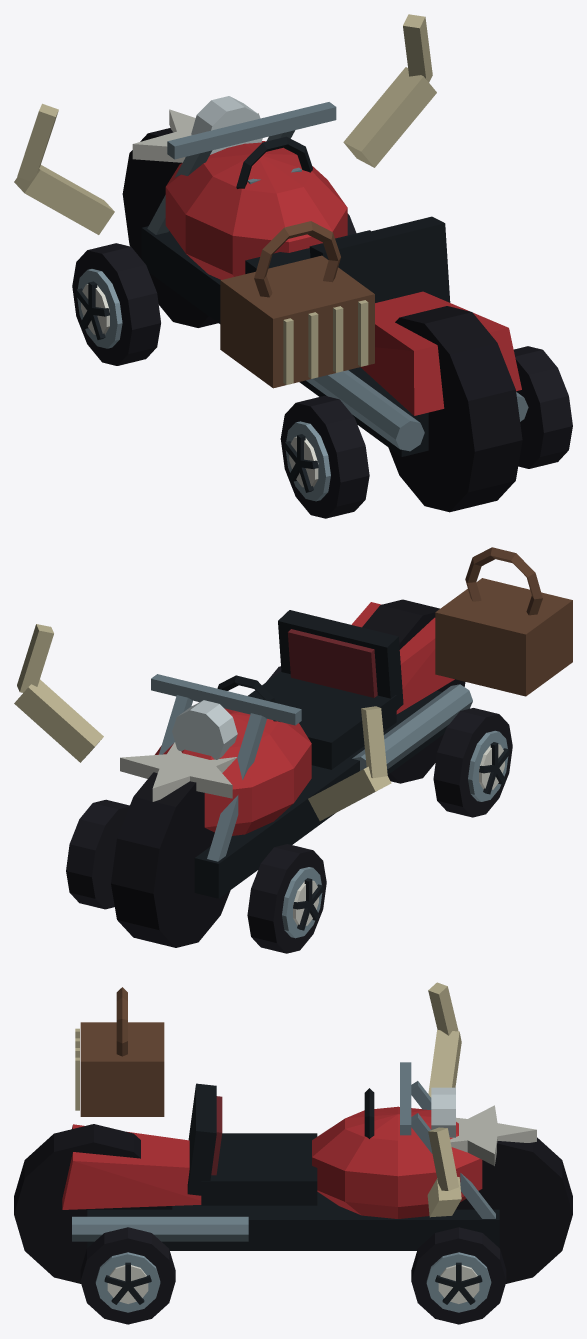
The model's file is kart.glb.
The picture shows the model from 3 angles, top to bottom: view 1: azimuth 30°, elevation 25°; view 2: azimuth 150°, elevation 25°; view 3: azimuth 270°, elevation 25°; orthographic projection. The views are drawn at different scales.
Parts seen in each view (by area): view 1: identity-motorbike-motorbike-tank-and-fork, identity-motorbike-motif-basket, identity-motorbike-motif-horns, identity-motorbike-driver-cockpit, wheel-rear-left, wheel-front-left, wheel-rear-right, identity-motorbike-motif-star; view 2: identity-motorbike-motorbike-tank-and-fork, identity-motorbike-driver-cockpit, identity-motorbike-motif-basket, identity-motorbike-motif-horns, wheel-rear-left, wheel-front-left, wheel-front-right, identity-motorbike-motif-star; view 3: identity-motorbike-motorbike-tank-and-fork, identity-motorbike-driver-cockpit, identity-motorbike-motif-basket, wheel-front-right, wheel-rear-right, identity-motorbike-motif-horns, identity-motorbike-motif-star.
Boxes of the visible parts, x1,y1,x2,y2 form: identity-motorbike-motorbike-tank-and-fork: (122,96,528,512); identity-motorbike-motif-basket: (220,221,374,388); identity-motorbike-motif-horns: (14,14,436,234); identity-motorbike-driver-cockpit: (236,136,450,302); wheel-rear-left: (280,395,369,518); wheel-front-left: (72,243,160,365); wheel-rear-right: (513,346,572,468); identity-motorbike-motif-star: (132,109,258,162); identity-motorbike-motorbike-tank-and-fork: (111,599,472,947); identity-motorbike-driver-cockpit: (217,610,403,769); identity-motorbike-motif-basket: (435,547,572,696); identity-motorbike-motif-horns: (14,624,391,820); wheel-rear-left: (433,708,512,817); wheel-front-left: (247,844,326,953); wheel-front-right: (66,799,129,909); identity-motorbike-motif-star: (120,742,236,801); identity-motorbike-motorbike-tank-and-fork: (14,1062,572,1283); identity-motorbike-driver-cockpit: (187,1083,374,1205); identity-motorbike-motif-basket: (75,987,164,1116); wheel-front-right: (411,1227,506,1324); wheel-rear-right: (80,1227,175,1324); identity-motorbike-motif-horns: (427,982,461,1217); identity-motorbike-motif-star: (450,1105,536,1165).
Bounding box in the file's own units: 2 × 1.37 × 2.94.
